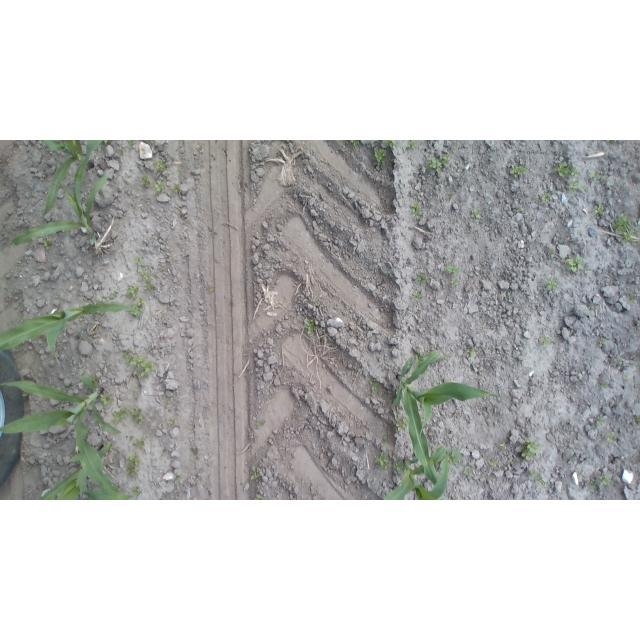Maize: (391, 347, 508, 485), (1, 374, 124, 490), (0, 300, 142, 365), (10, 172, 111, 247), (37, 440, 135, 500), (42, 140, 103, 218), (382, 446, 450, 500)
Weeds: (121, 346, 157, 379), (614, 212, 640, 244), (519, 437, 545, 462), (426, 154, 451, 174), (565, 253, 583, 275), (126, 454, 140, 479), (112, 407, 129, 426), (376, 451, 391, 471), (130, 297, 145, 317), (374, 148, 389, 167), (554, 162, 570, 179), (130, 407, 145, 425), (508, 162, 524, 178), (304, 317, 317, 335), (100, 391, 115, 406), (535, 473, 550, 487), (447, 449, 460, 465), (444, 265, 462, 276), (138, 268, 153, 281), (545, 276, 558, 291), (396, 417, 409, 432), (122, 286, 138, 298), (154, 179, 167, 193), (133, 439, 147, 452), (411, 201, 421, 219), (598, 334, 611, 347), (539, 190, 552, 203), (599, 473, 613, 485), (369, 377, 380, 392), (250, 465, 260, 481), (415, 274, 429, 285), (567, 181, 579, 193), (410, 289, 422, 301), (625, 292, 636, 305), (156, 160, 167, 173), (594, 203, 605, 215), (256, 419, 267, 431), (571, 166, 582, 178), (143, 282, 156, 292), (596, 415, 607, 426), (606, 432, 616, 444), (384, 140, 396, 150), (396, 460, 405, 473), (498, 441, 508, 452), (488, 457, 498, 468), (463, 466, 473, 477), (465, 347, 475, 358), (540, 337, 550, 348), (471, 209, 481, 220), (450, 277, 461, 287), (130, 485, 140, 496), (592, 170, 601, 182), (406, 141, 418, 150), (416, 351, 425, 363), (142, 176, 151, 187), (172, 183, 181, 194), (44, 239, 52, 250), (134, 391, 142, 402), (600, 380, 609, 389), (134, 256, 143, 265), (616, 356, 624, 366), (447, 189, 458, 196), (175, 474, 182, 485), (588, 302, 597, 310), (589, 481, 597, 490), (350, 140, 359, 148), (381, 435, 390, 443), (111, 291, 120, 299), (581, 184, 589, 192), (530, 470, 538, 478), (442, 351, 450, 359), (584, 268, 592, 276), (144, 345, 152, 353), (623, 374, 631, 381), (91, 376, 99, 383), (168, 420, 176, 427), (117, 147, 124, 155), (549, 249, 555, 258), (208, 285, 215, 292), (551, 336, 557, 344), (515, 204, 521, 212), (636, 413, 640, 424), (179, 168, 186, 174), (127, 141, 133, 148), (579, 472, 585, 478), (254, 494, 260, 500), (605, 177, 610, 184), (162, 452, 169, 457), (164, 402, 169, 409), (506, 434, 511, 439), (388, 269, 392, 275), (143, 434, 146, 438)
